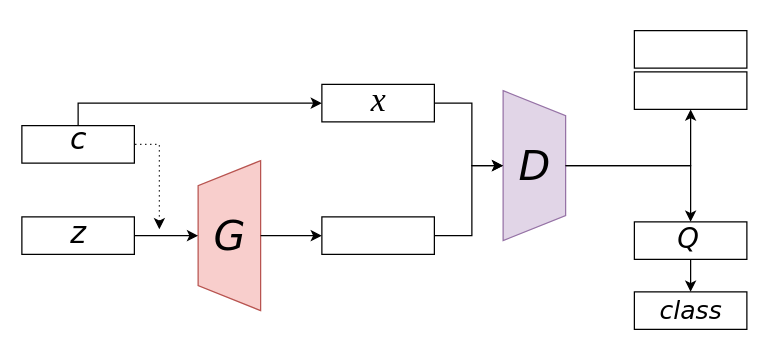
Image size: 769x354. Some labels were removed from this diagram. The shapes that lost their labels are listed below. From the top down, each one's centre as x and y in pixels, then its label:
the point at 690,48: real
the point at 690,90: fake
the point at 377,235: G(z)
